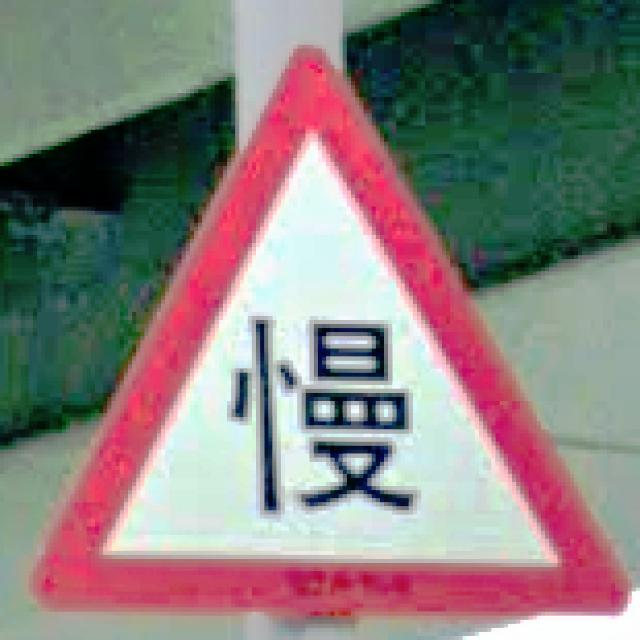slow: (25, 36, 632, 624)
